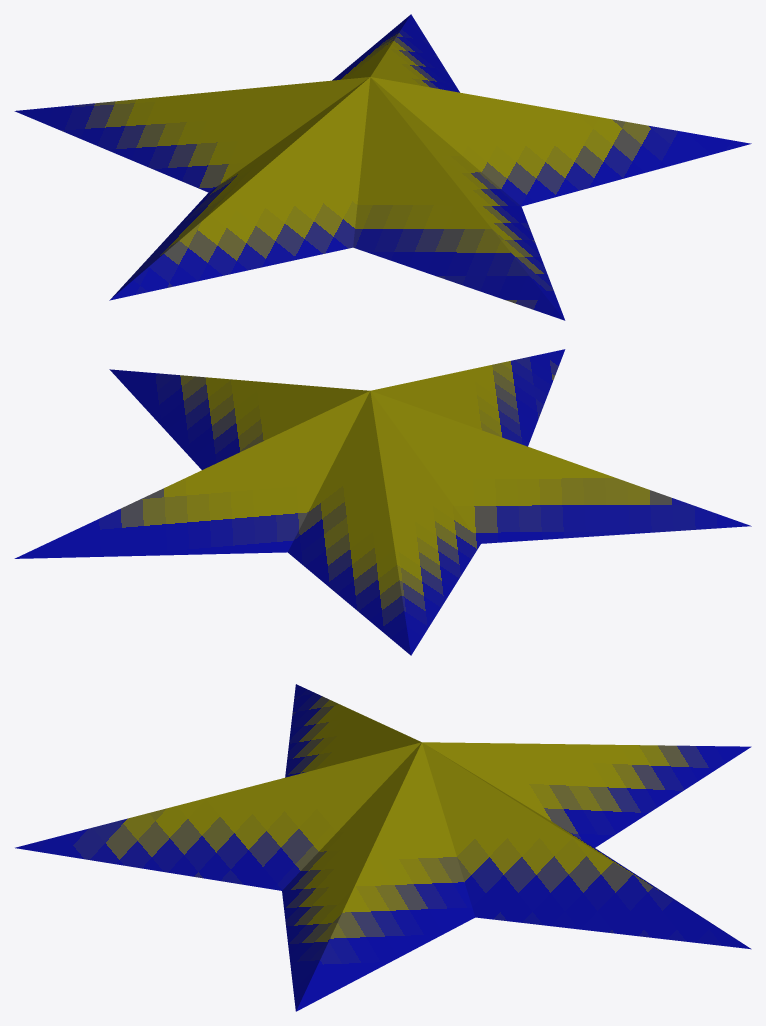
The model's file is star.obj.
3 views of the same model, one above another, from view 1: azimuth 30°, elevation 25°; view 2: azimuth 150°, elevation 25°; view 3: azimuth 270°, elevation 25° (orthographic). The views are drawn at different scales.
Visible parts, largest first — view 1: 円柱; view 2: 円柱; view 3: 円柱.
Part boxes in pixels (x1=…): 円柱: x1=14, y1=14, x2=751, y2=320; 円柱: x1=14, y1=349, x2=751, y2=655; 円柱: x1=15, y1=684, x2=751, y2=1011.
Bounding box in the file's own units: 4.48 × 0.6743 × 4.26.
1 material, 1 textured.
